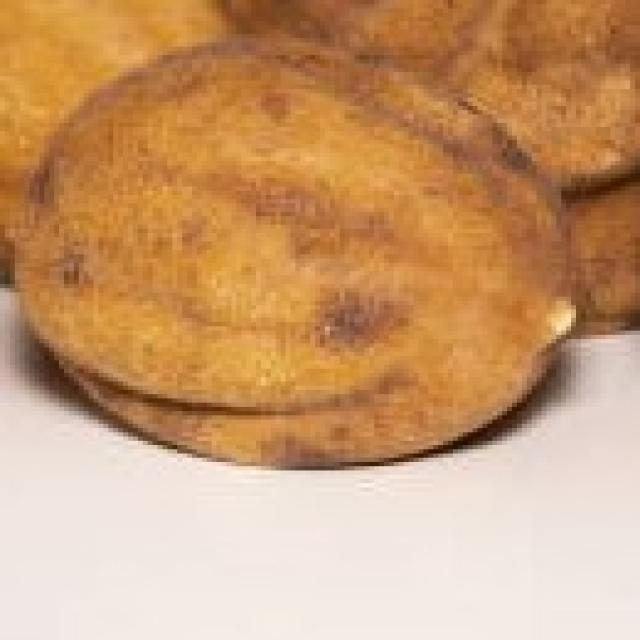overripe: (6, 32, 588, 476)
